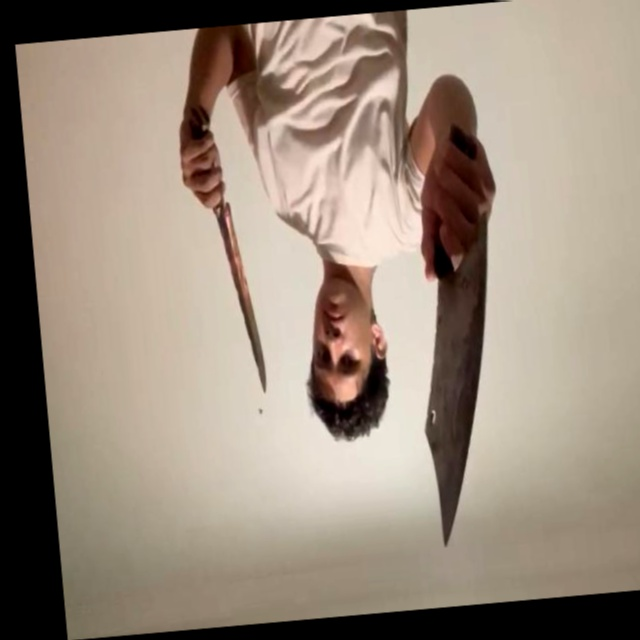Sharp-Object: (406, 219, 516, 547), (217, 205, 267, 392)
